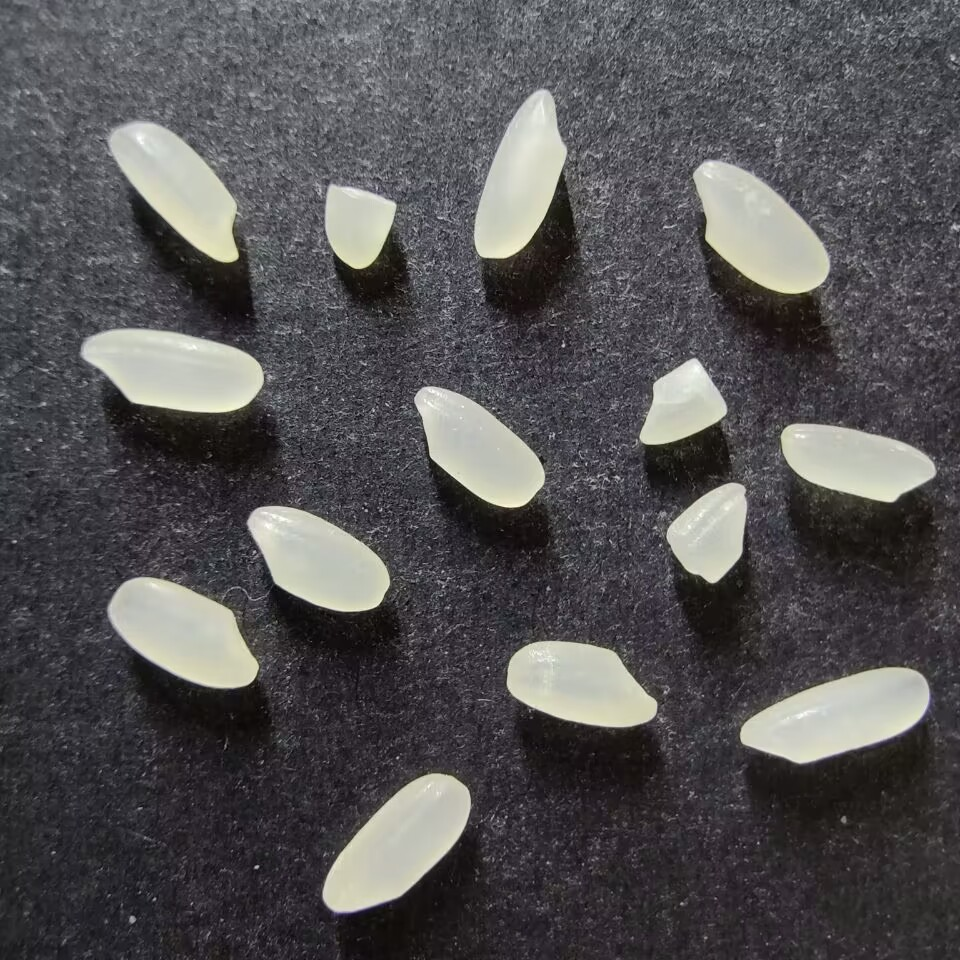broken: (665, 482, 747, 583), (638, 358, 728, 446), (323, 185, 396, 269)
rice: (321, 772, 471, 913), (107, 121, 240, 263), (739, 666, 930, 764), (693, 159, 829, 294), (107, 576, 259, 689), (413, 385, 544, 509), (473, 89, 566, 259), (247, 504, 390, 612), (81, 328, 264, 412), (505, 640, 658, 727), (780, 423, 936, 503)
